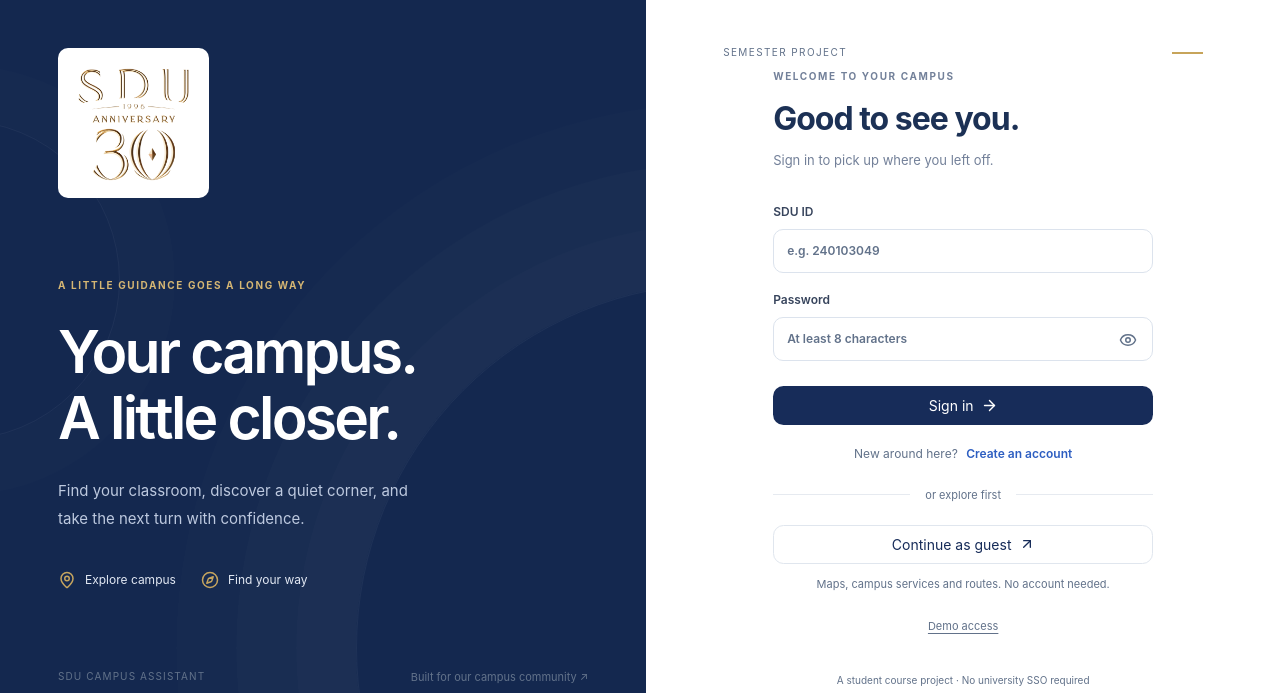
Scenario: password visibility is controllable and registration checks confirmation before sending
Click the button "Create an account" at (1017, 454), box [961, 444, 1072, 462]
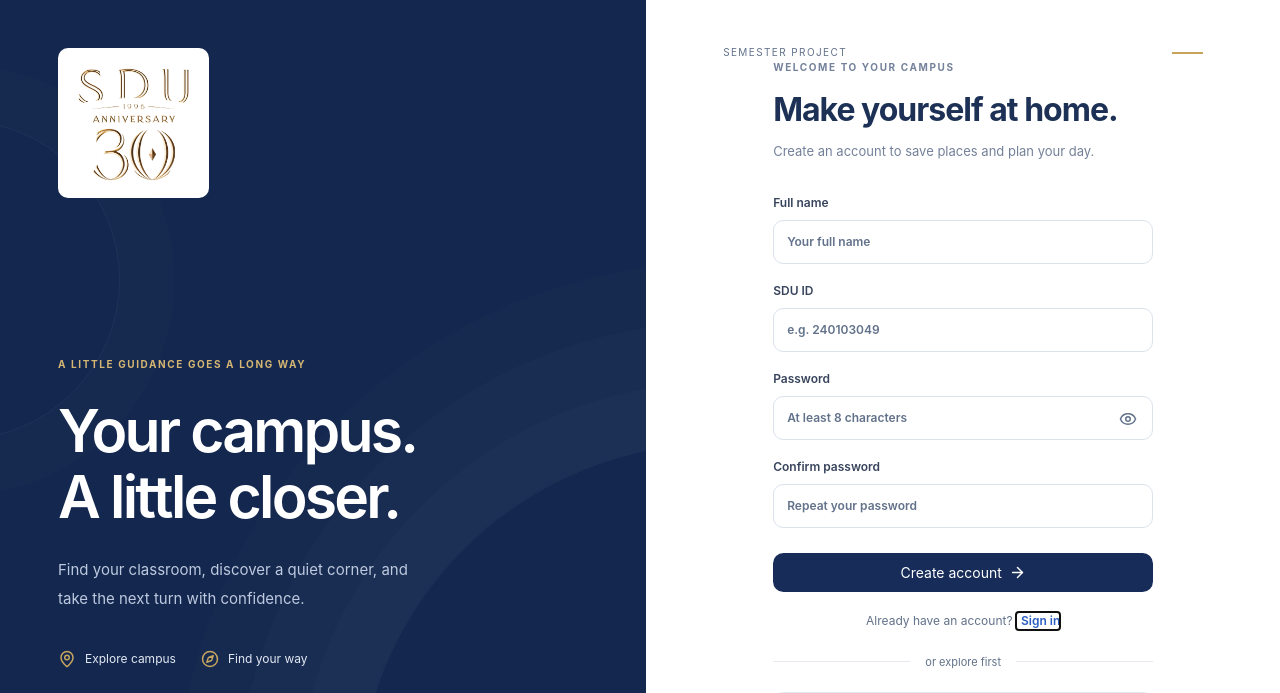
Type "Test Student" into the field labelled "Full name" at (963, 242), box [773, 220, 1153, 264]
Type "299999999" into the field labelled "SDU ID" at (963, 330), box [773, 308, 1153, 352]
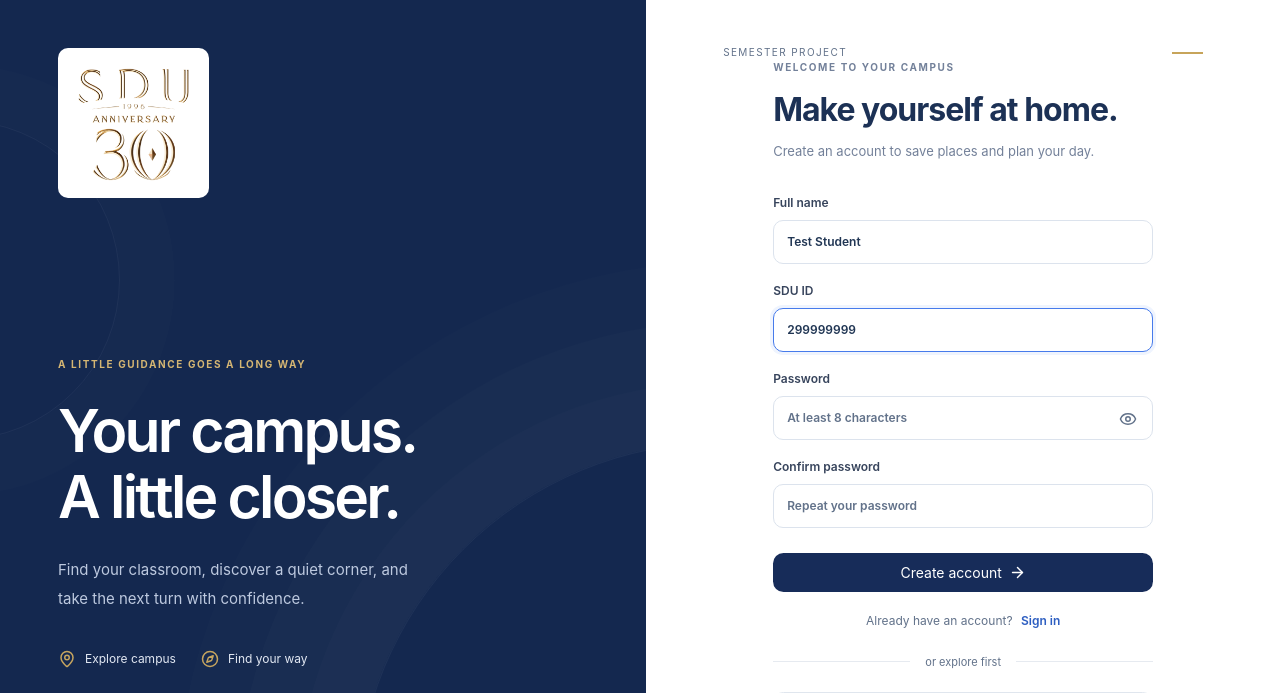
Type "Campus123!" into the password field with placeholder "At least 8 characters" at (963, 418), box [773, 396, 1153, 440]
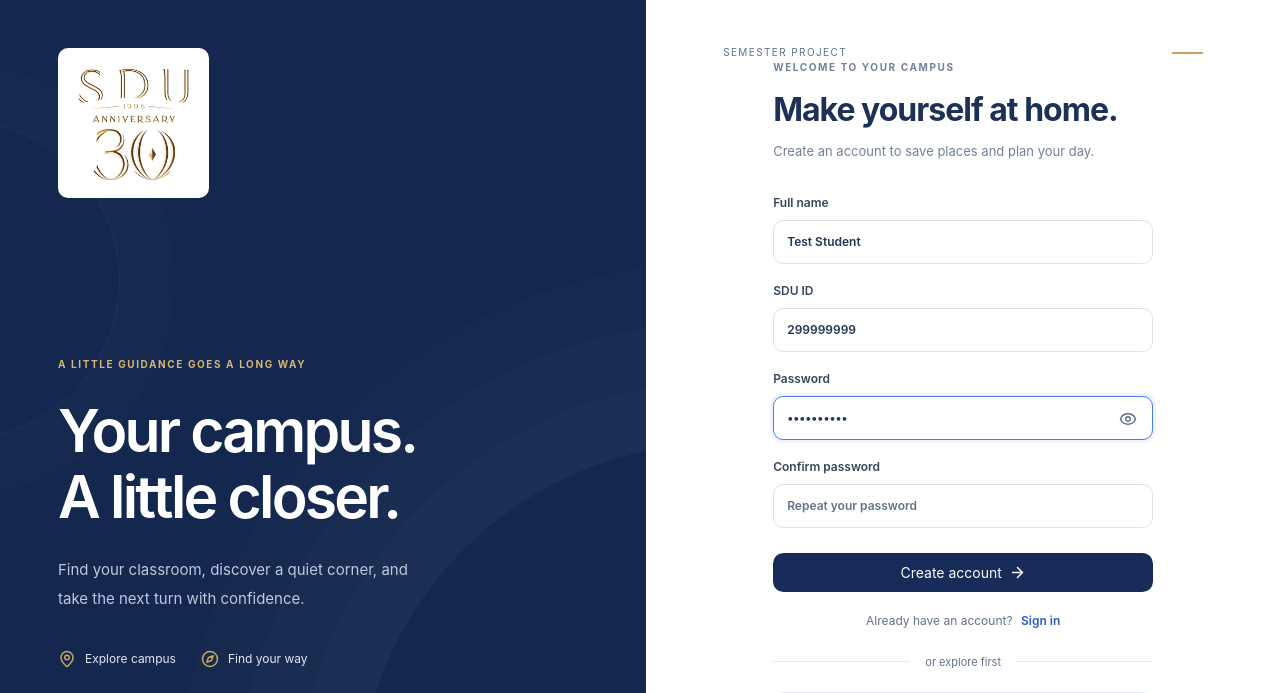
Type "Different!" into the password field labelled "Confirm password" at (963, 506), box [773, 484, 1153, 528]
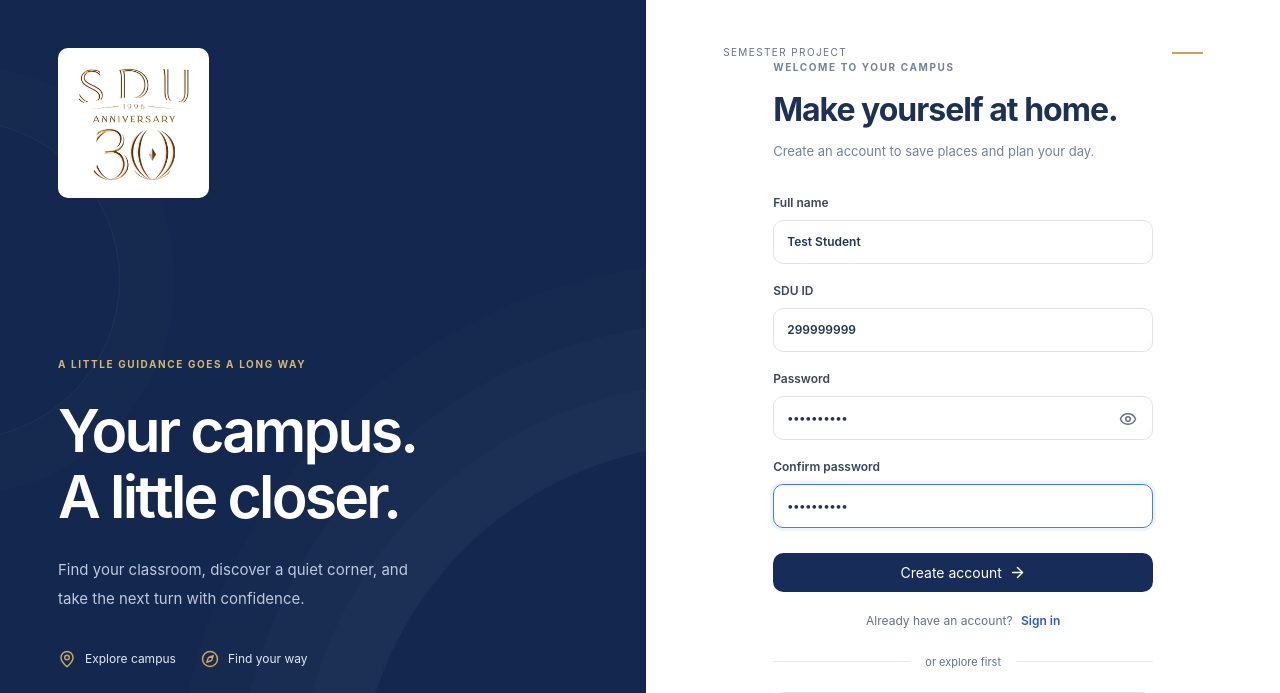
Click the button named "Show password" at (1128, 419), box [1107, 398, 1149, 440]
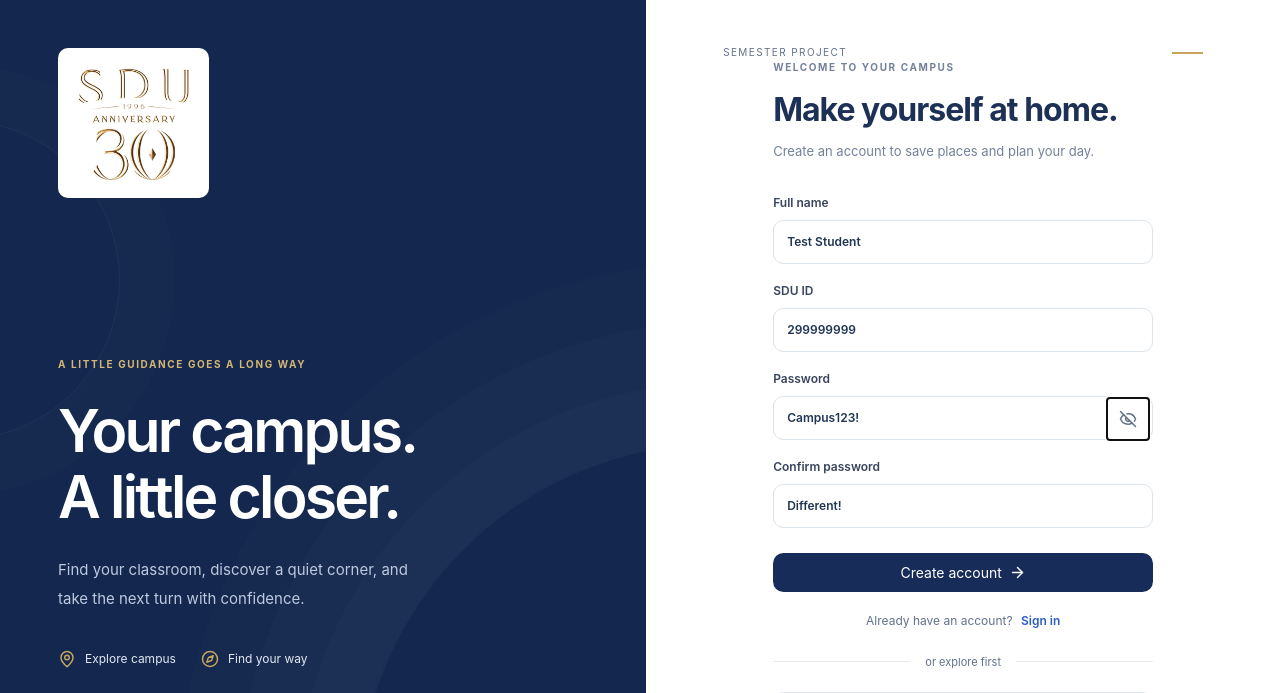
Check: the field with placeholder "At least 8 characters" shows its text, box [773, 396, 1153, 440]
Click the button "Create account" at (963, 572), box [773, 553, 1153, 592]
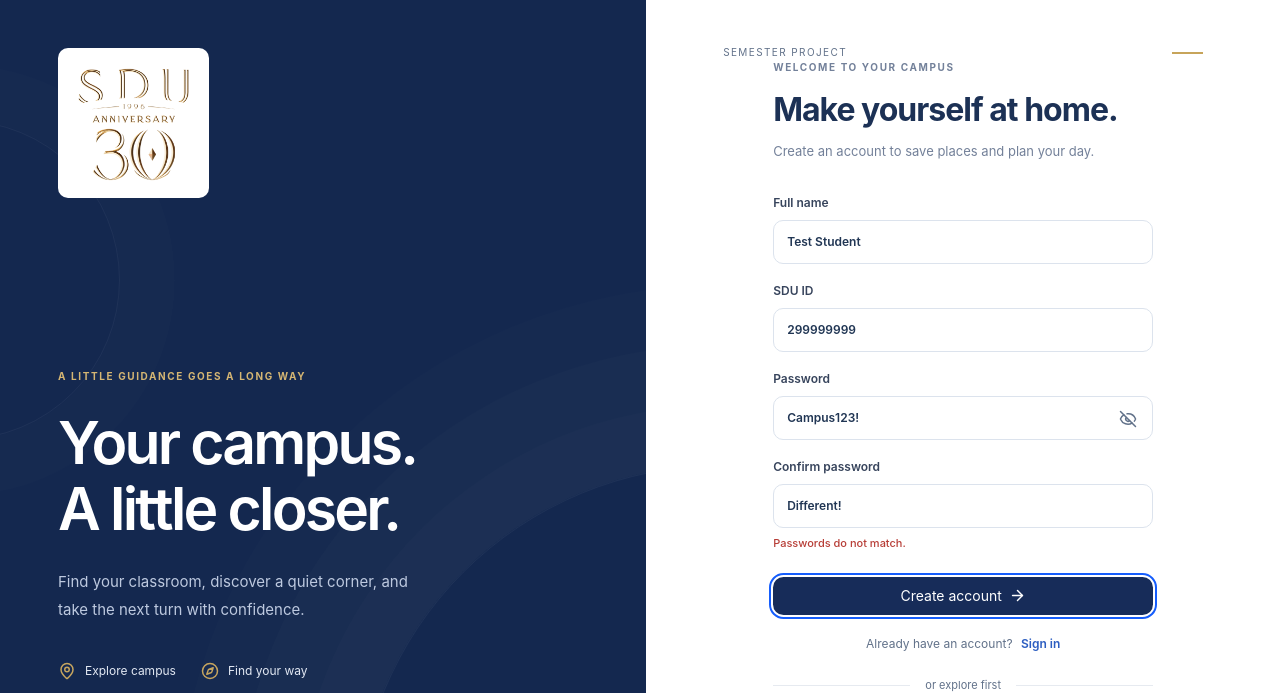
Check: the text "Passwords do not match." is shown, box [773, 536, 906, 550]
